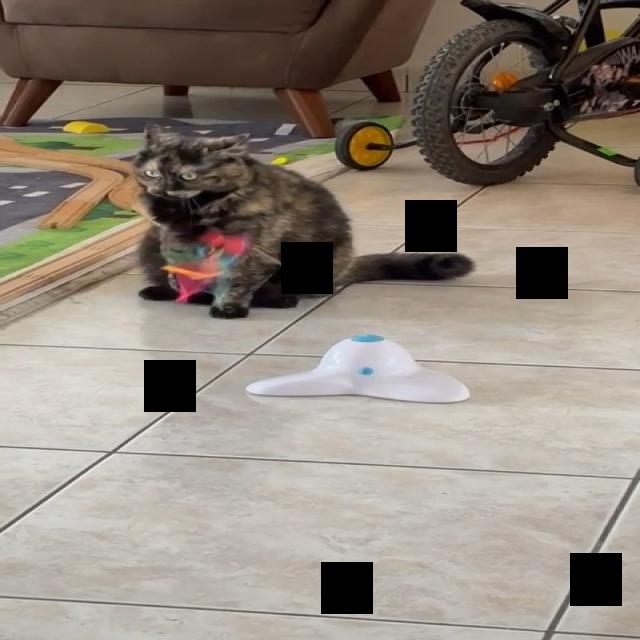authorized: (129, 122, 475, 318)
